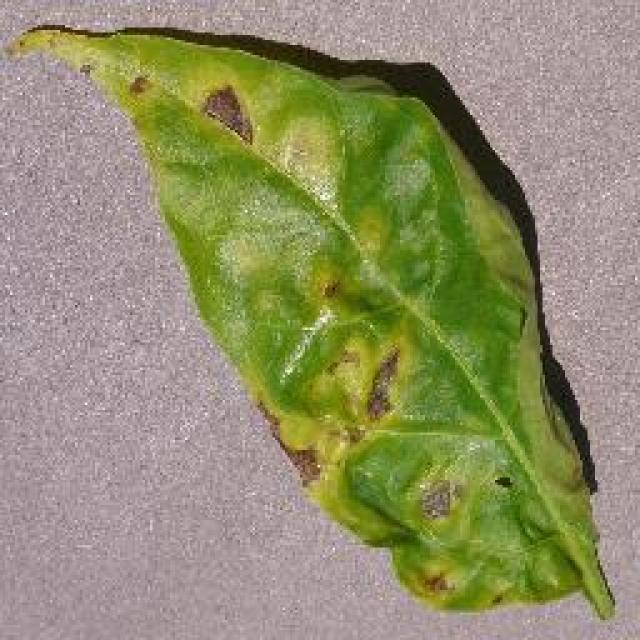Chilli_Bacterial_Spot: (0, 20, 618, 620), (197, 80, 255, 148), (325, 345, 370, 423), (360, 343, 402, 425), (348, 200, 392, 262), (412, 475, 462, 525), (415, 568, 455, 598), (122, 70, 152, 100), (315, 273, 343, 305), (487, 470, 515, 495)
